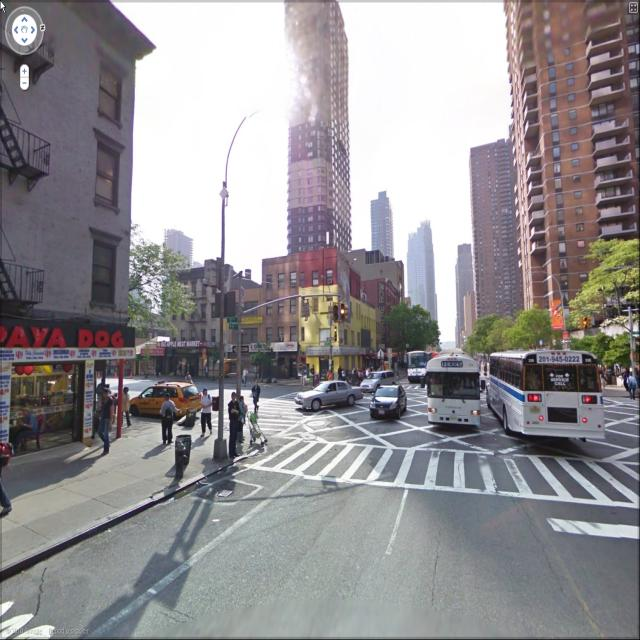b_1: (0, 2, 160, 370), (506, 3, 635, 270), (260, 12, 362, 240), (465, 123, 532, 312), (298, 262, 365, 375), (393, 219, 442, 352), (353, 174, 399, 272), (260, 250, 302, 346), (452, 241, 478, 348)
b_2: (470, 226, 640, 376), (116, 238, 183, 358)
